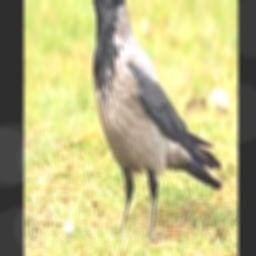Crow: (78, 0, 223, 236)
